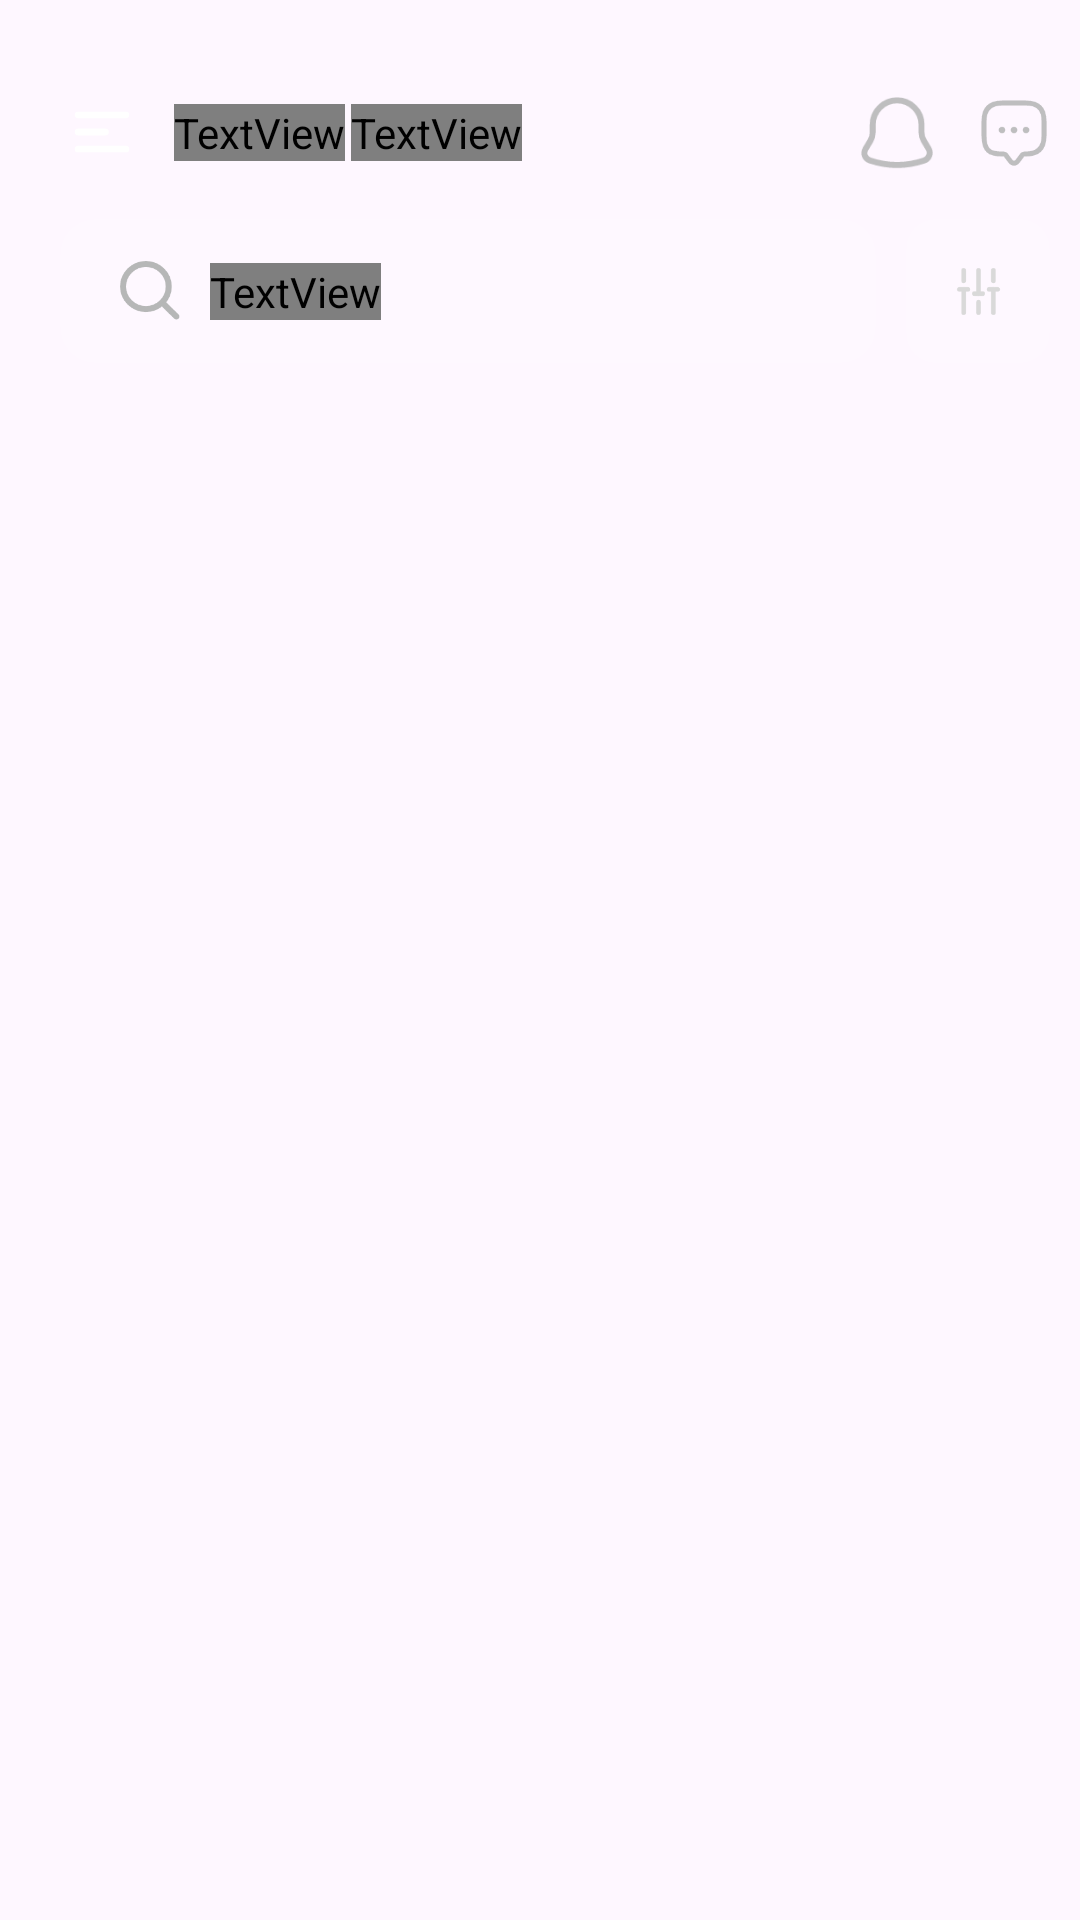

Point at icon controls on the screen. Image size 1080*1920, points as (x=x, y=y).
filter: (x=978, y=291)
massages: (x=1014, y=133)
notification: (x=897, y=132)
screach: (x=149, y=290)
